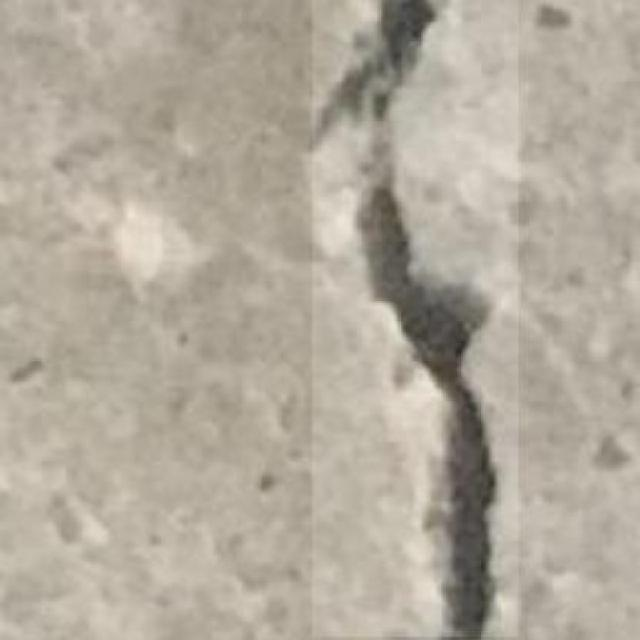Crack: (311, 0, 514, 640)
